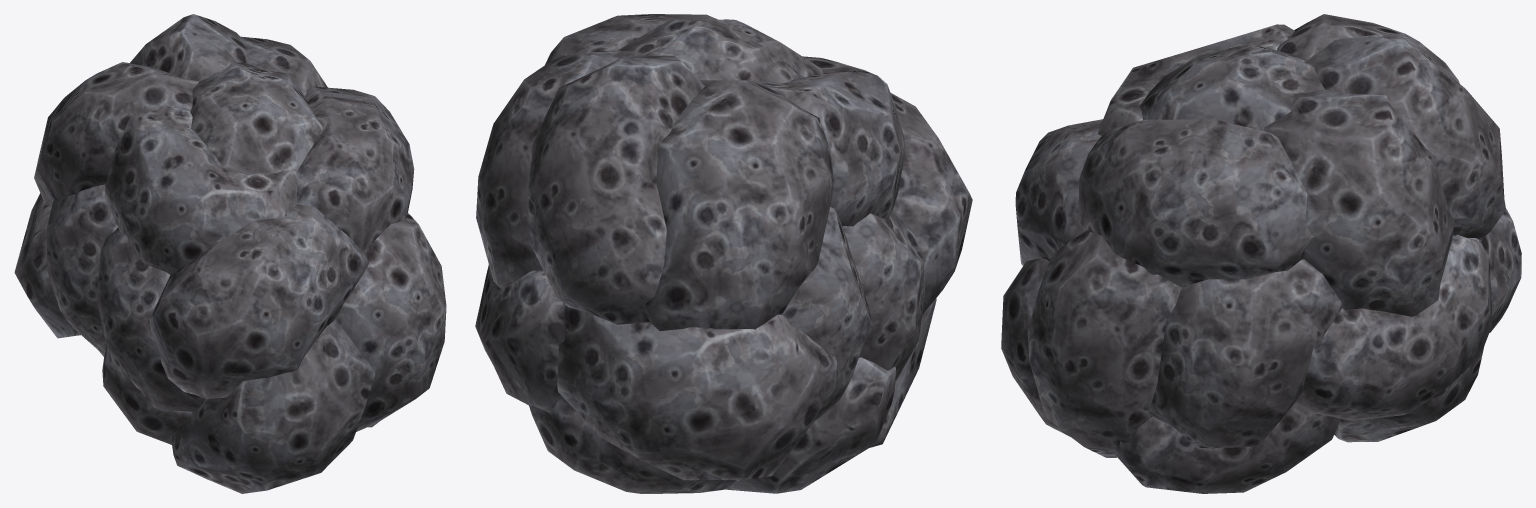
File: Asteroid_group1.fbx
3 views of the same model, side by side, from view 1: azimuth 30°, elevation 25°; view 2: azimuth 150°, elevation 25°; view 3: azimuth 270°, elevation 25° (orthographic). The views are drawn at different scales.
Parts seen in each view (by area): view 1: Asteriod11, Asteriod16, Asteriod10, Asteriod08, Asteriod03, Asteriod02, Asteriod09, Asteriod17, Asteriod14, Asteriod01, Asteriod07, Asteriod13 (+1 smaller); view 2: Asteriod02, Asteriod07, Asteriod01, Asteriod10, Asteriod06, Asteriod05, Asteriod17, Asteriod11, Asteriod13, Asteriod09, Asteriod14, Asteriod15 (+2 smaller); view 3: Asteriod03, Asteriod06, Asteriod04, Asteriod08, Asteriod05, Asteriod01, Asteriod12, Asteriod09, Asteriod11, Asteriod10, Asteriod16, Asteriod15 (+2 smaller).
Boxes of the visible parts, x1,y1,x2,y2 form: Asteriod11: (149, 204, 368, 398); Asteriod16: (170, 318, 375, 493); Asteriod10: (104, 104, 296, 274); Asteriod08: (335, 212, 446, 431); Asteriod03: (296, 86, 414, 250); Asteriod02: (34, 62, 198, 207); Asteriod09: (190, 61, 322, 174); Asteriod17: (96, 227, 205, 411); Asteriod14: (47, 184, 117, 354); Asteriod01: (130, 14, 249, 81); Asteriod07: (14, 193, 80, 338); Asteriod13: (102, 344, 192, 444); Asteriod02: (643, 80, 834, 330); Asteriod07: (557, 303, 836, 480); Asteriod01: (528, 55, 704, 324); Asteriod10: (760, 56, 904, 226); Asteriod06: (476, 50, 633, 289); Asteriod05: (475, 264, 564, 412); Asteriod17: (842, 209, 925, 381); Asteriod11: (890, 92, 972, 314); Asteriod13: (724, 357, 895, 493); Asteriod09: (617, 19, 823, 83); Asteriod14: (782, 207, 871, 424); Asteriod15: (529, 399, 739, 493); Asteriod03: (1078, 119, 1313, 287); Asteriod06: (1263, 89, 1454, 316); Asteriod04: (1149, 259, 1341, 448); Asteriod08: (1027, 231, 1181, 457); Asteriod05: (1295, 234, 1491, 420); Asteriod01: (1304, 35, 1505, 240); Asteriod12: (1112, 402, 1340, 493); Asteriod09: (1139, 44, 1324, 130); Asteriod11: (1015, 119, 1103, 265); Asteriod10: (1098, 24, 1294, 135); Asteriod16: (1001, 259, 1070, 436); Asteriod15: (1334, 346, 1484, 442).
Bounding box in the file's own units: 241 × 281 × 302.
